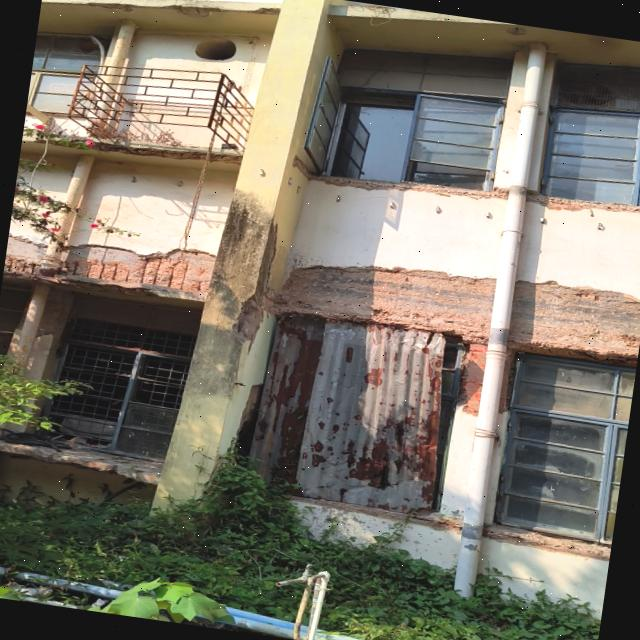peeling: (273, 266, 494, 344), (509, 282, 640, 365), (310, 175, 508, 200), (527, 191, 640, 214), (92, 142, 206, 161), (210, 152, 240, 165), (53, 141, 74, 148)
spalling: (62, 245, 215, 301), (156, 4, 280, 18), (5, 236, 46, 275), (73, 2, 154, 13), (507, 26, 526, 35)
